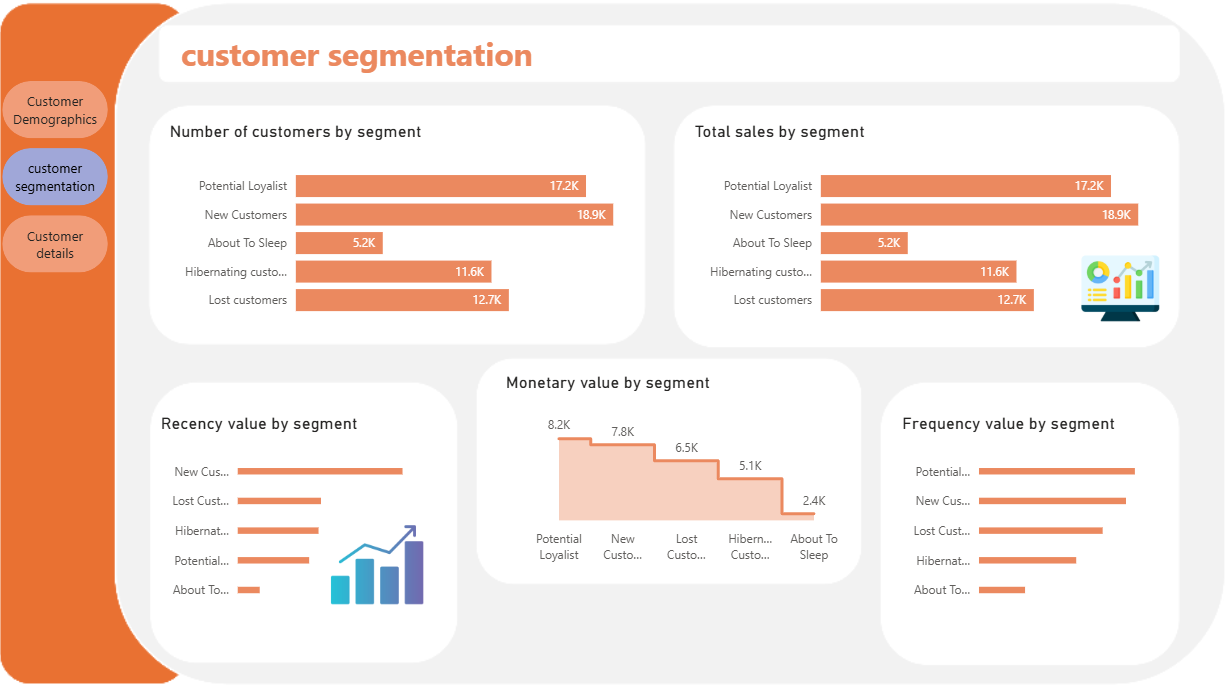

The page's visual inventory and layout, read from the dashboard file:
{"tool":"powerbi","page":{"name":"customer segmentation","canvas":[1280,720],"ordinal":1},"visuals":[{"type":"barChart","title":"Number of customers by segment","fields":{"Category":["Segment table.Segment"],"Y":["CountNonNull(FactInternetSales.CustomerKey)"]},"box":[186.6,131.7,478.9,209.9],"z":0},{"type":"barChart","title":"Total sales by segment","fields":{"Category":["Segment table.Segment"],"Y":["CountNonNull(FactInternetSales.SalesAmount)"]},"box":[717.7,131.7,478.9,209.9],"z":1000},{"type":"barChart","title":"Recency value by segment","fields":{"Y":["Sum(RFM table.recency value)"],"Category":["segment description.Segment"]},"box":[177.3,428,279.9,200.1],"z":2000},{"type":"barChart","title":"Frequency value by segment","fields":{"Category":["segment description.Segment"],"Y":["Sum(RFM table.frequency value)"]},"box":[928.2,428,279.9,200.1],"z":3000},{"type":"areaChart","title":"Monetary value by segment","fields":{"Category":["segment description.Segment"],"Y":["Sum(RFM table.frequency value)"]},"box":[526.8,386.2,352,200.1],"z":4000},{"type":"textbox","box":[197.5,36.7,759.8,54.5],"z":5000},{"type":"pageNavigator","box":[21.5,91.2,107.6,195],"z":6000},{"type":"image","box":[345.7,534.4,111.4,93.7],"z":7000},{"type":"image","box":[1111.8,260.9,84.8,81],"z":8000}]}

Visuals, with their boxes in screenshot pixels (x1, y1, x2, y2), scaled from the page's 1280x720 canvas onto the 1226x685 screenshot:
"Number of customers by segment" barChart: 179:125:637:325
"Total sales by segment" barChart: 687:125:1146:325
"Recency value by segment" barChart: 170:407:438:598
"Frequency value by segment" barChart: 889:407:1157:598
"Monetary value by segment" areaChart: 505:367:842:558
textbox: 189:35:917:87
pageNavigator: 21:87:124:272
image: 331:508:438:598
image: 1065:248:1146:325
